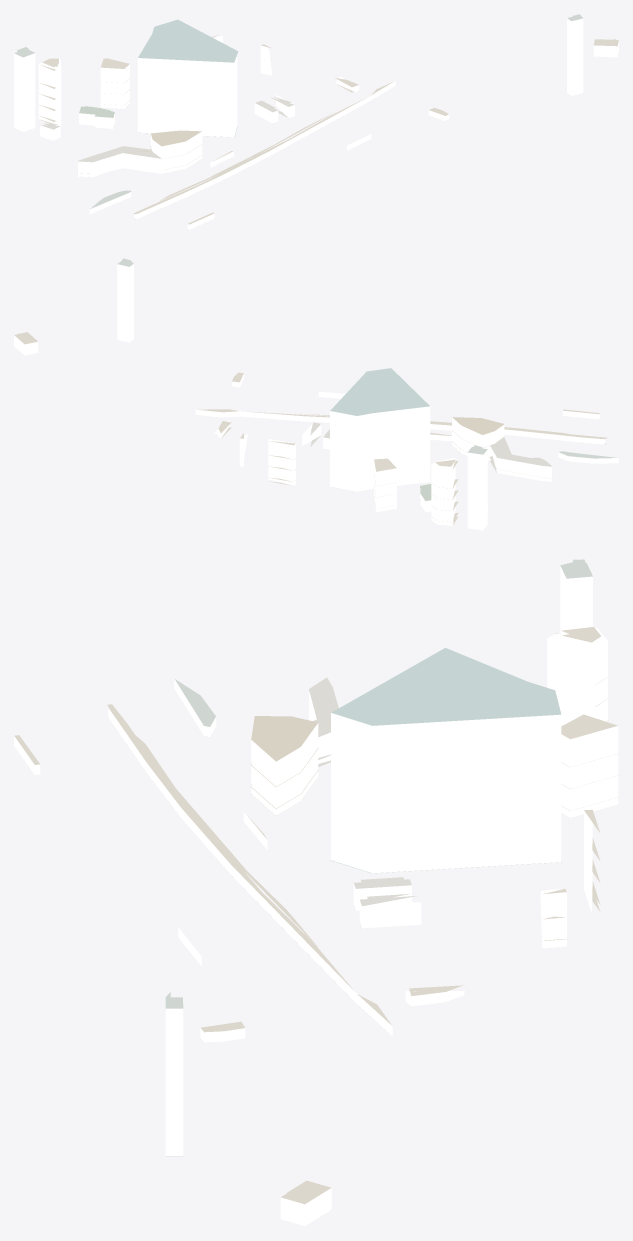
File: buildings--4_-2-coarse.glb
The picture shows the model from 3 angles, top to bottom: view 1: azimuth 30°, elevation 25°; view 2: azimuth 150°, elevation 25°; view 3: azimuth 270°, elevation 25°; orthographic projection. The views are drawn at different scales.
Parts seen in each view (by area): view 1: block_-4_-2_office, block_-4_-2_residential, block_-4_-2_roof; view 2: block_-4_-2_office, block_-4_-2_residential, block_-4_-2_roof; view 3: block_-4_-2_office, block_-4_-2_residential, block_-4_-2_roof.
Boxes of the visible parts, <box> form: block_-4_-2_office: <box>14,18,583,214</box>; block_-4_-2_residential: <box>38,36,618,229</box>; block_-4_-2_roof: <box>14,14,618,224</box>; block_-4_-2_office: <box>117,264,618,530</box>; block_-4_-2_residential: <box>14,335,605,525</box>; block_-4_-2_roof: <box>14,258,616,525</box>; block_-4_-2_office: <box>165,566,592,1155</box>; block_-4_-2_residential: <box>14,627,618,1226</box>; block_-4_-2_roof: <box>14,559,618,1204</box>.
Size of the model in its own units: 426 by 59.2 by 201.
